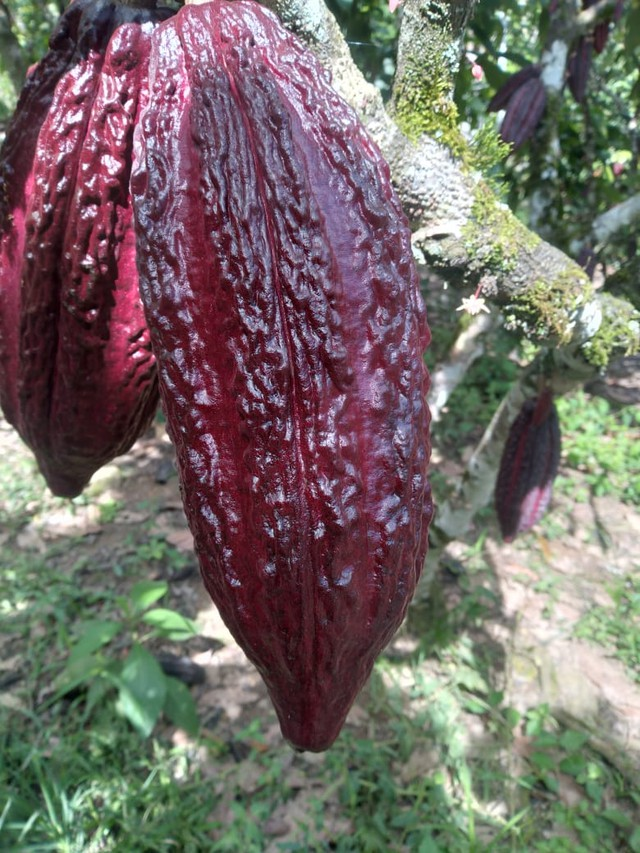Health: (89, 1, 464, 770)
